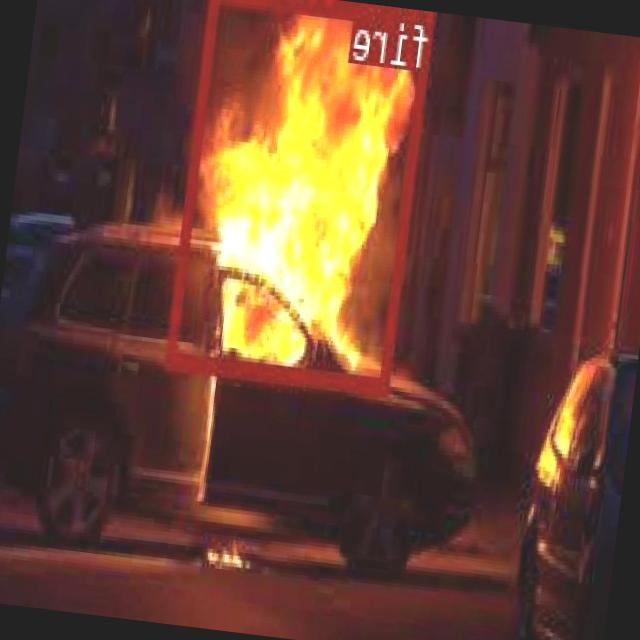fire: (168, 0, 437, 394)
